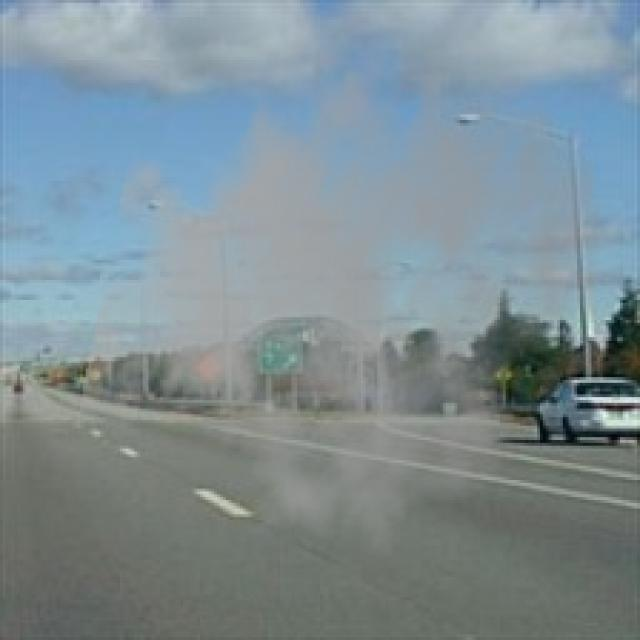Smoke: (77, 14, 606, 560)
